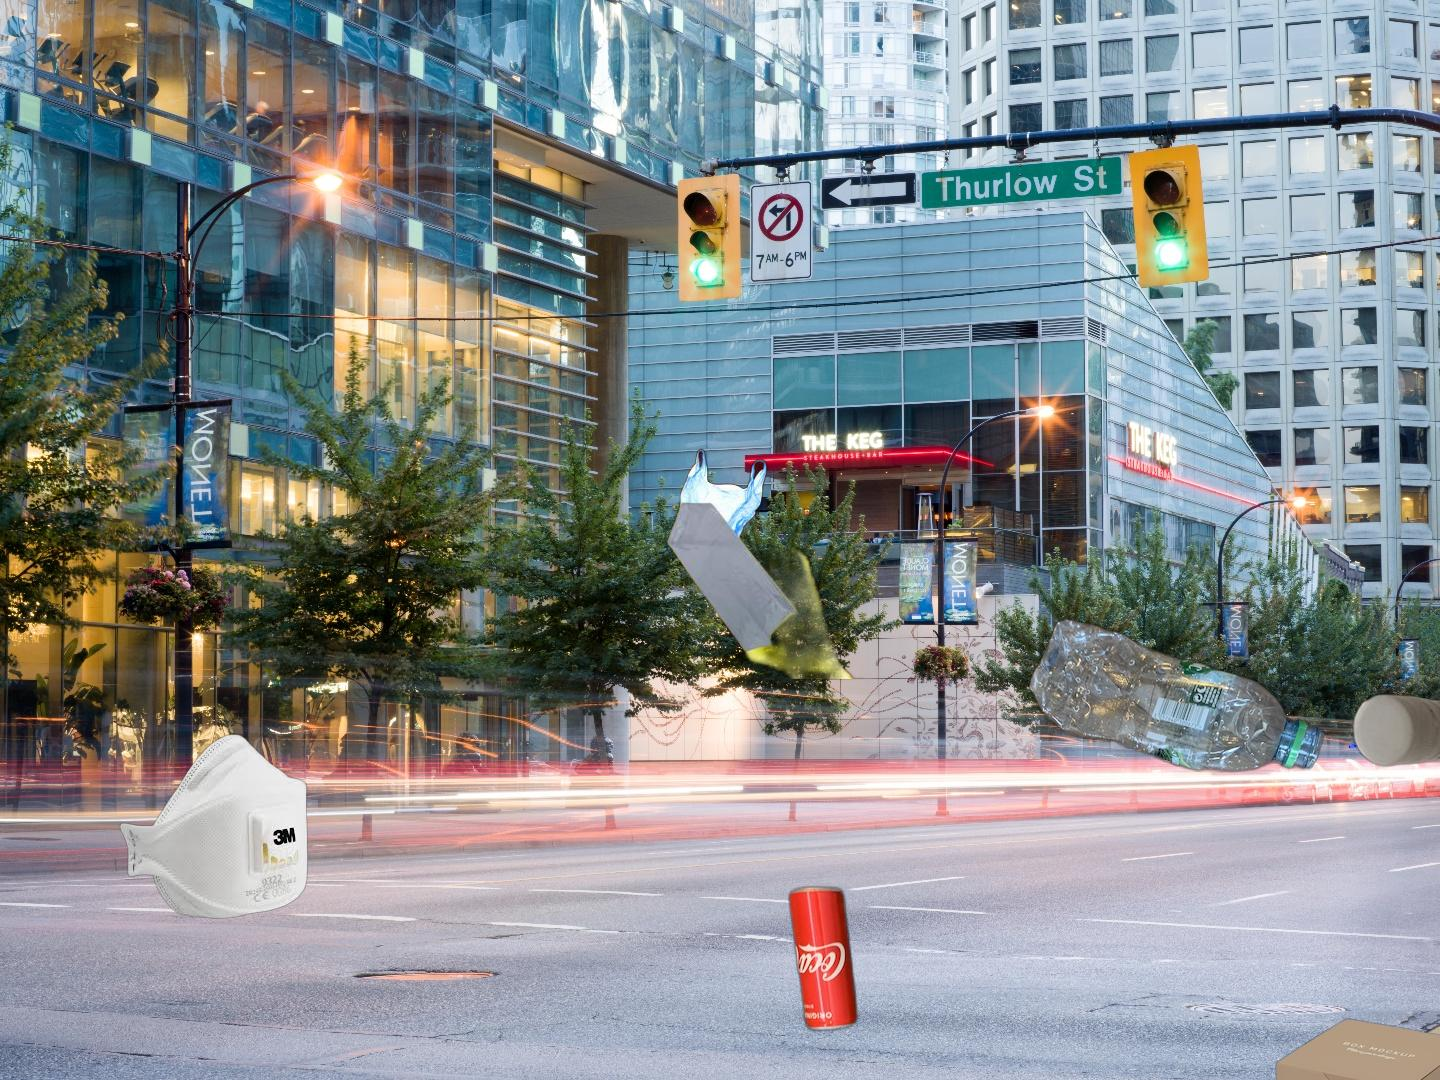glass: (1349, 669, 1440, 798)
metal-cans: (785, 880, 862, 1037)
paper-bag: (1384, 967, 1440, 1080)
plastic-bag: (664, 446, 869, 680)
plastic-bottles: (1026, 614, 1329, 776)
trash: (117, 732, 310, 921)
trashbox-cardboard: (1273, 1016, 1440, 1080)
